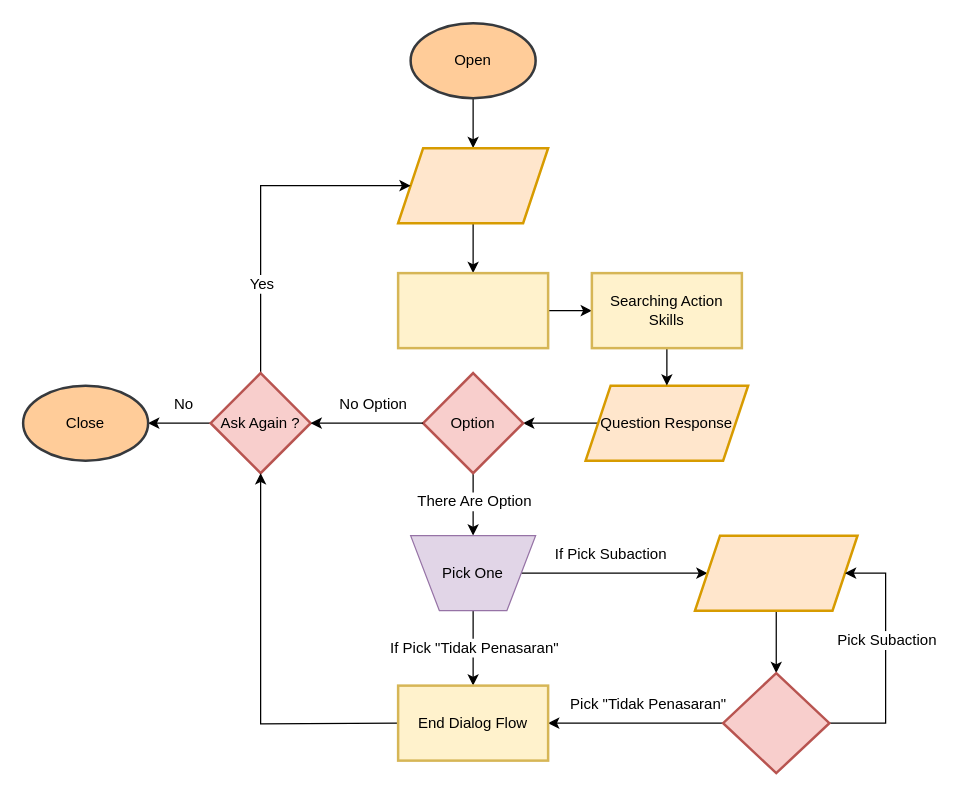
Image size: 958x795. Some labels were removed from this diagram. Each missing label, with the centre of its shape:
Input Question: (472,185)
Pick Response: (775,572)
Repeat Pick?: (775,722)
Watson Asisstsant: (472,310)
